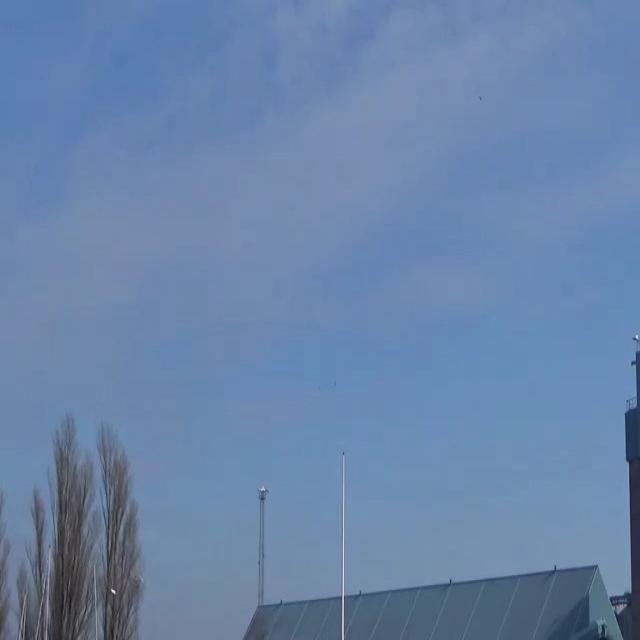bird: (477, 91, 485, 105)
